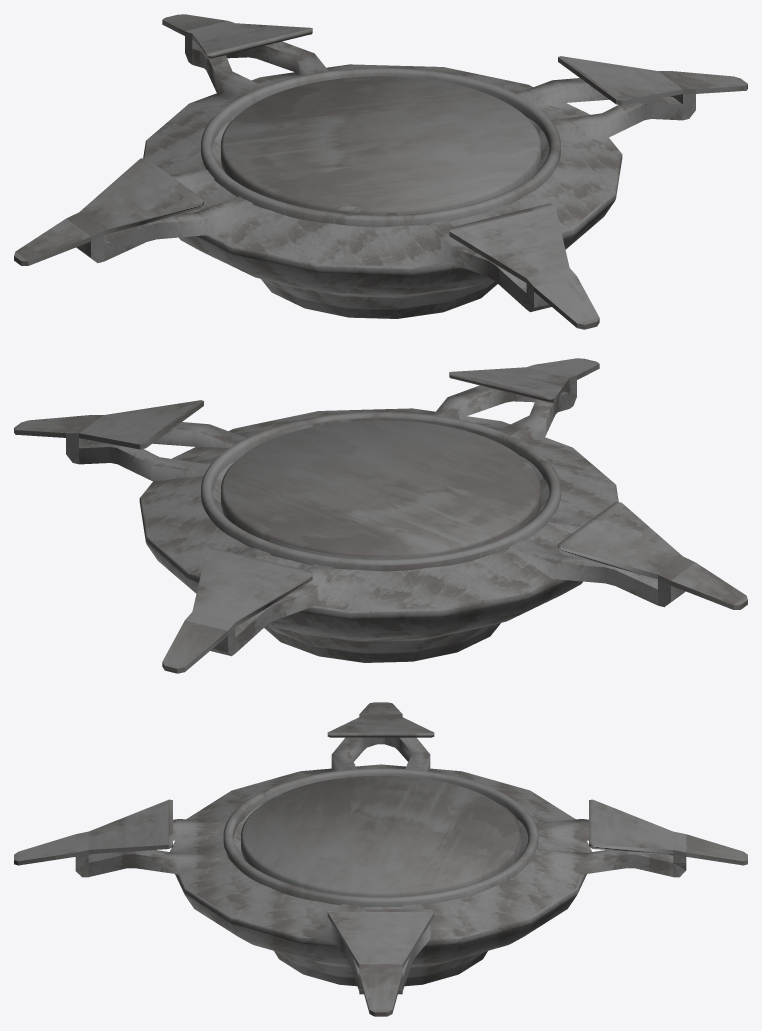
File: Platform.glb
The picture shows the model from 3 angles, top to bottom: view 1: azimuth 30°, elevation 25°; view 2: azimuth 150°, elevation 25°; view 3: azimuth 270°, elevation 25°; orthographic projection. The views are drawn at different scales.
Parts seen in each view (by area): view 1: Spinner, PlatformCenter; view 2: Spinner, PlatformCenter; view 3: Spinner, PlatformCenter.
Part boxes in pixels (x1,y1,x2,y2): Spinner: (14,14,747,329); PlatformCenter: (221,76,540,215); Spinner: (14,358,747,673); PlatformCenter: (221,420,540,559); Spinner: (14,702,747,1016); PlatformCenter: (241,775,520,897).
Size of the model in its own units: 2.41 by 0.4385 by 2.41.
2 materials, 1 textured.
